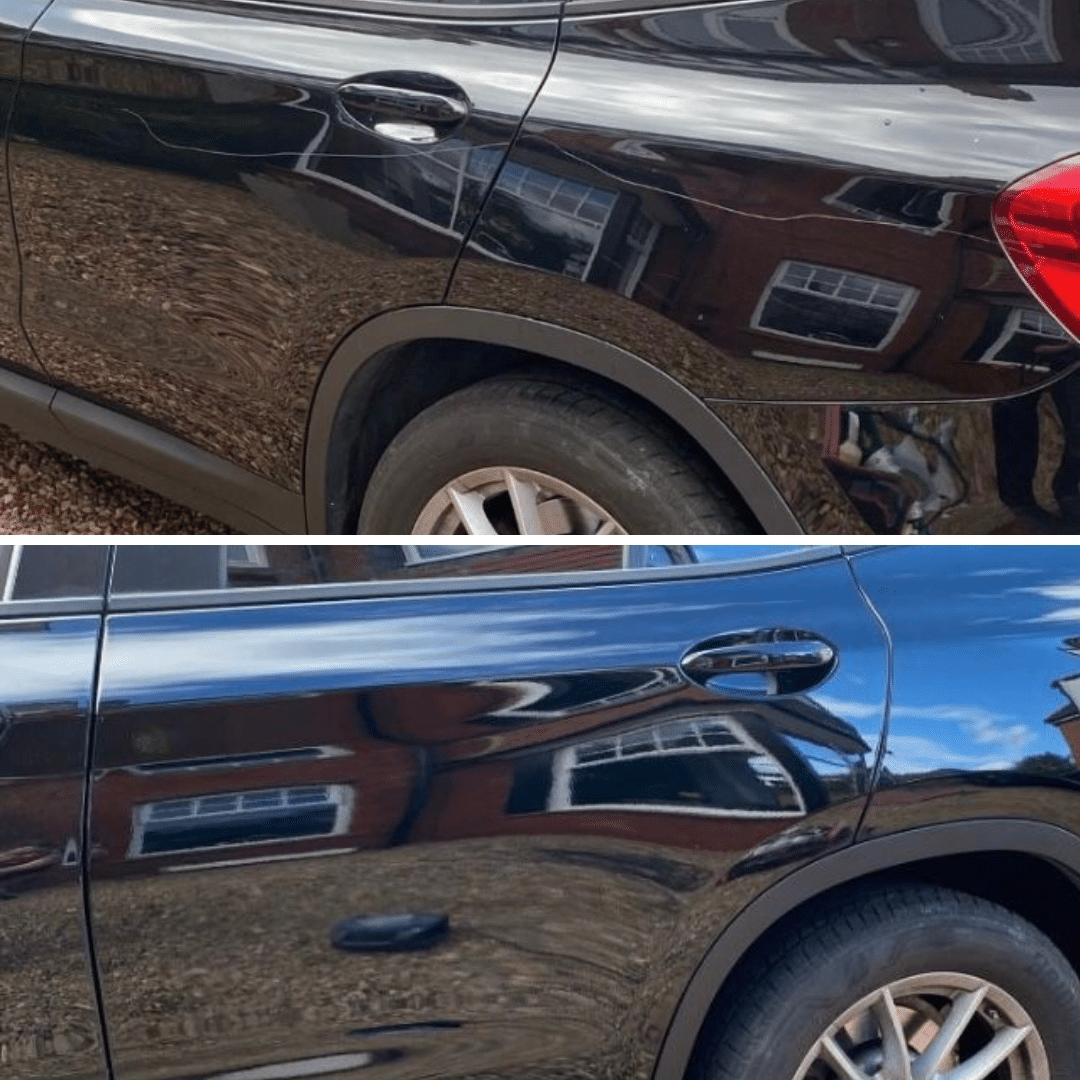scratch: (99, 93, 1010, 254)
